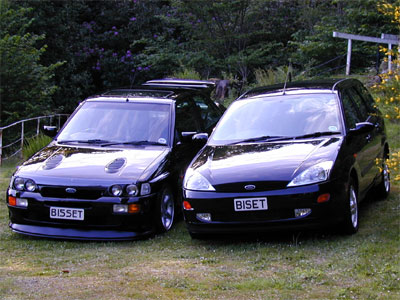licencePlate: (233, 198, 272, 215), (49, 208, 89, 223)
